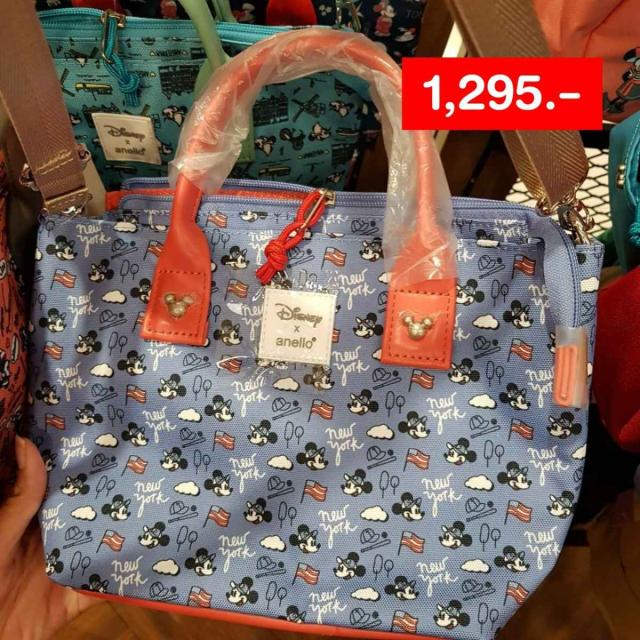Handbag: (40, 173, 578, 620)
